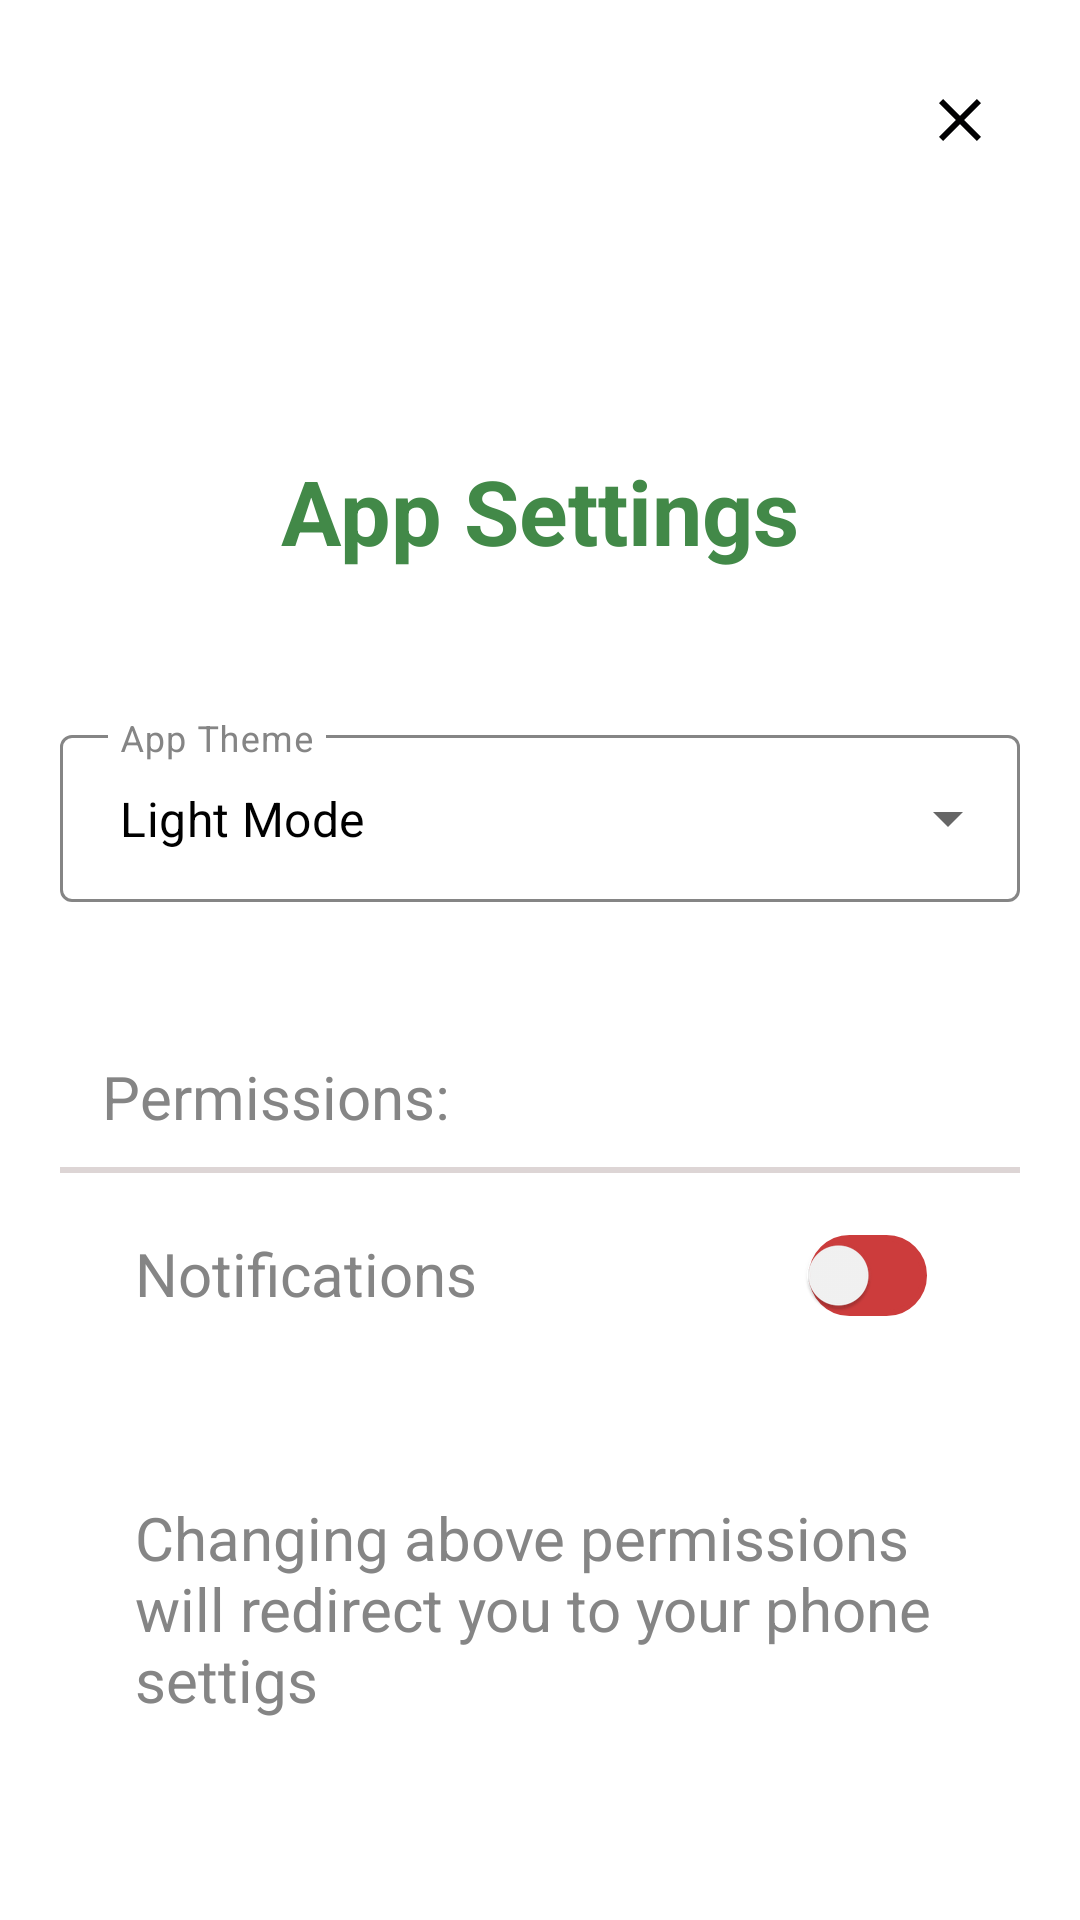

Locate icon controls on the screen. Image size 1080px×1920px, boxes as (x1, y1, x2, y2).
close: (939, 99, 981, 141)
